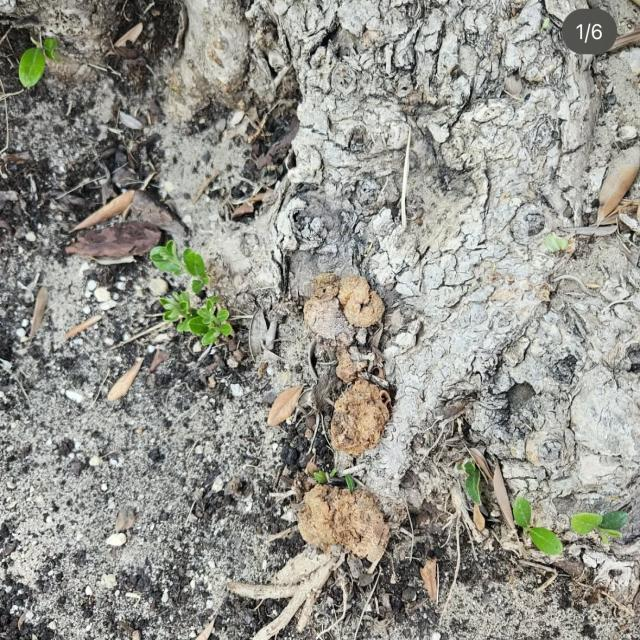Tuberculosis: (298, 484, 390, 564), (304, 273, 384, 344), (330, 378, 392, 456)
